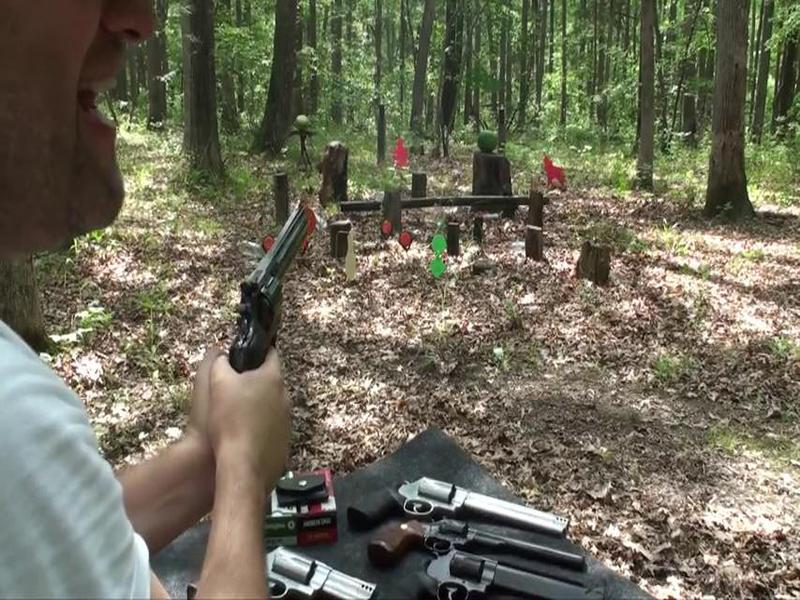Revolver: (214, 196, 339, 413)
